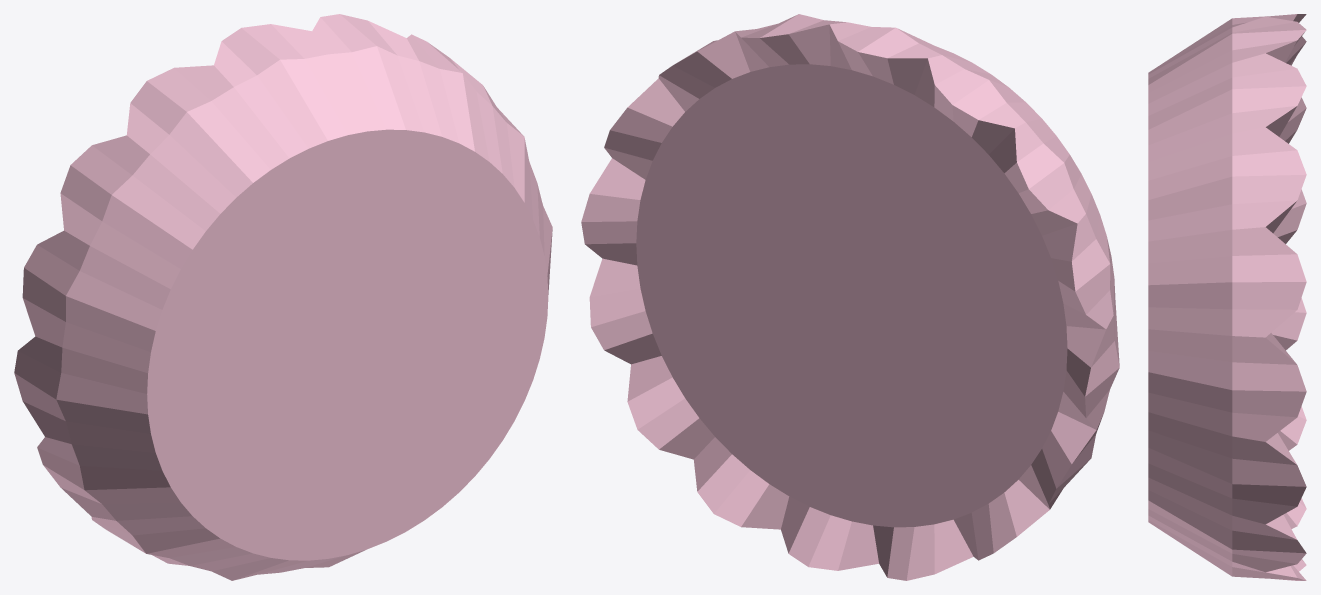
The model's file is main_body.glb.
The picture shows the model from 3 angles, left to right: view 1: azimuth 30°, elevation 25°; view 2: azimuth 150°, elevation 25°; view 3: azimuth 270°, elevation 25°; orthographic projection. The views are drawn at different scales.
Parts seen in each view (by area): view 1: main_body; view 2: main_body; view 3: main_body.
Part boxes in pixels (x1,y1,x2,y2): main_body: [14, 14, 552, 580]; main_body: [581, 14, 1119, 580]; main_body: [1148, 14, 1306, 580].
Size of the model in its own units: 1.96 by 1.96 by 0.5485.
